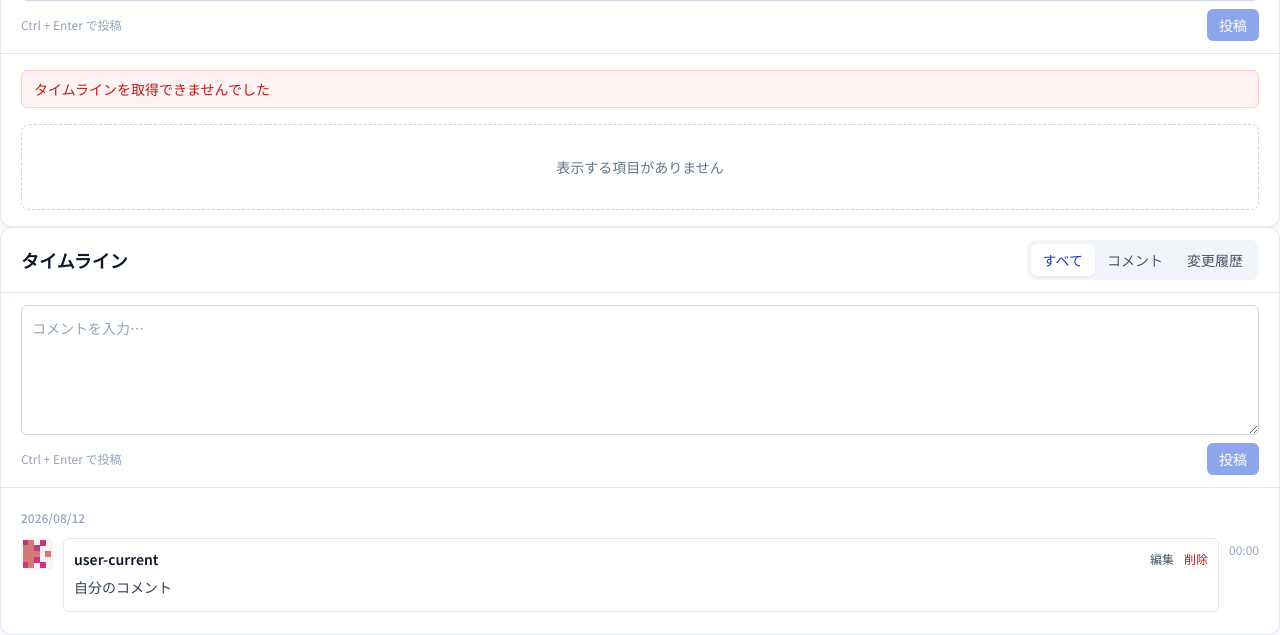
TaskTimeline › 取得・削除エラーを画面内に表示する
This screenshot has width=1280, height=635.
(page scrolled)
Expected: the message "タイムラインを取得できませんでした" is shown, [21,70,1259,108]
Click the button with aria-label "自分のコメントを削除" at x=1196, y=559, box [1184,551,1208,567]
(page scrolled)
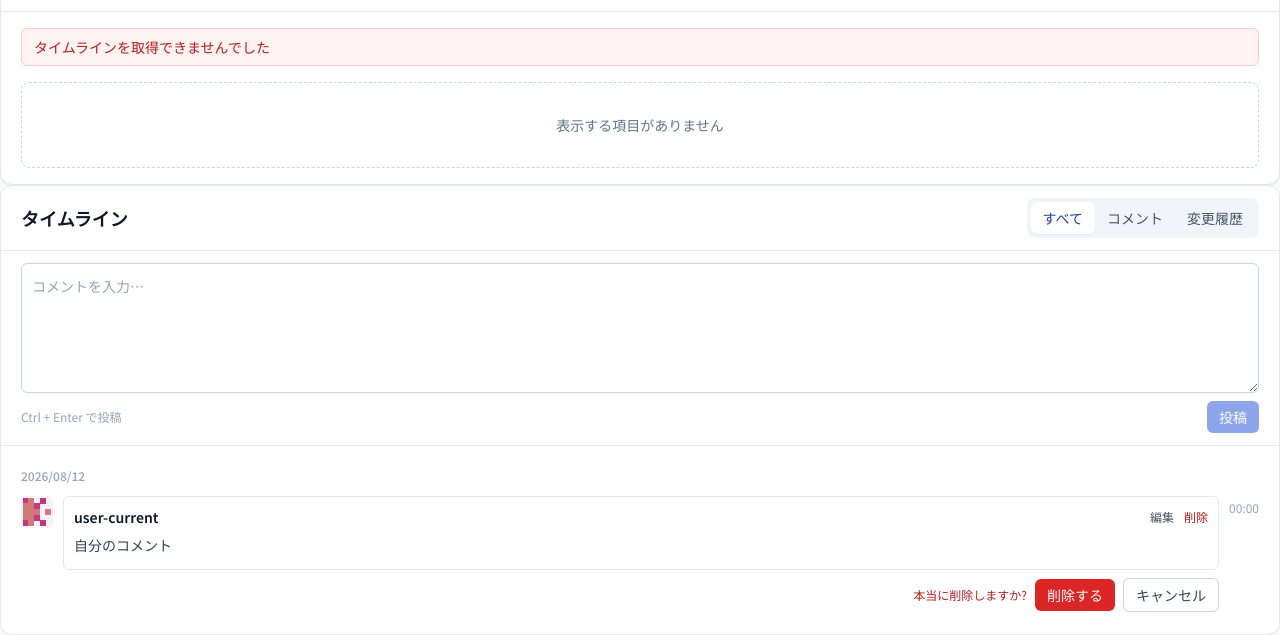
Click the button with aria-label "コメント削除を確定" at x=1075, y=595, box [1035,579,1115,611]
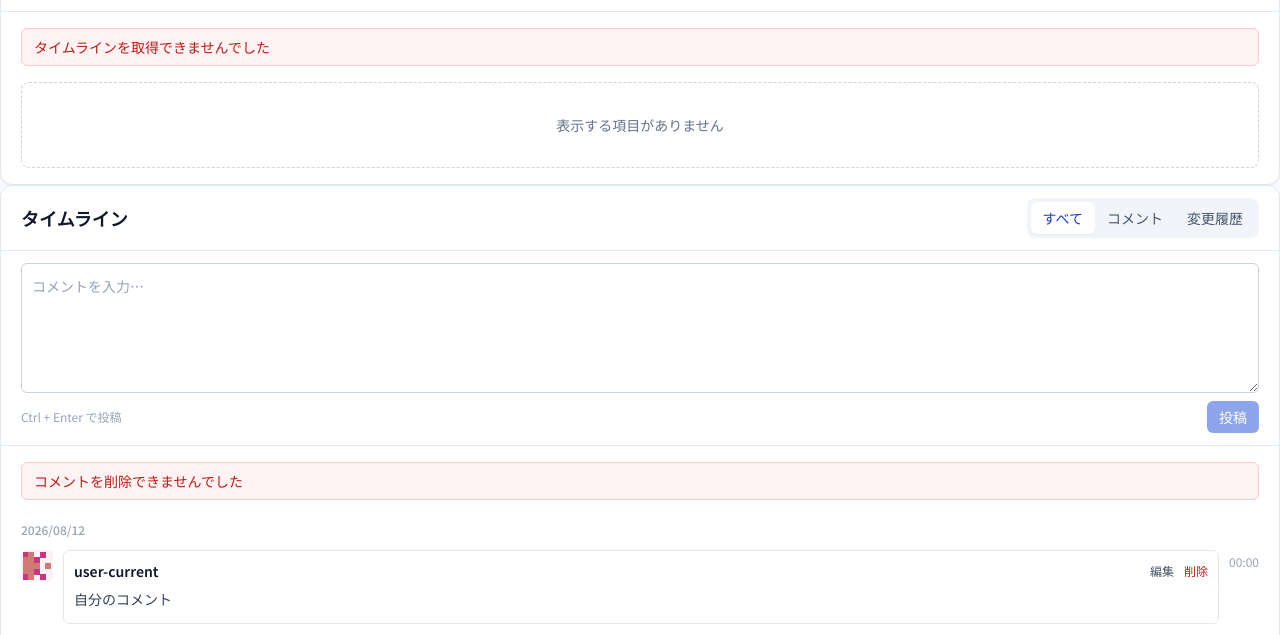
Expected: the message "コメントを削除できませんでした" is shown, [21,462,1259,500]
